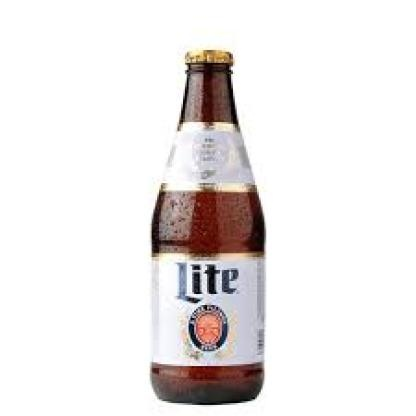trash: (151, 50, 264, 403)
